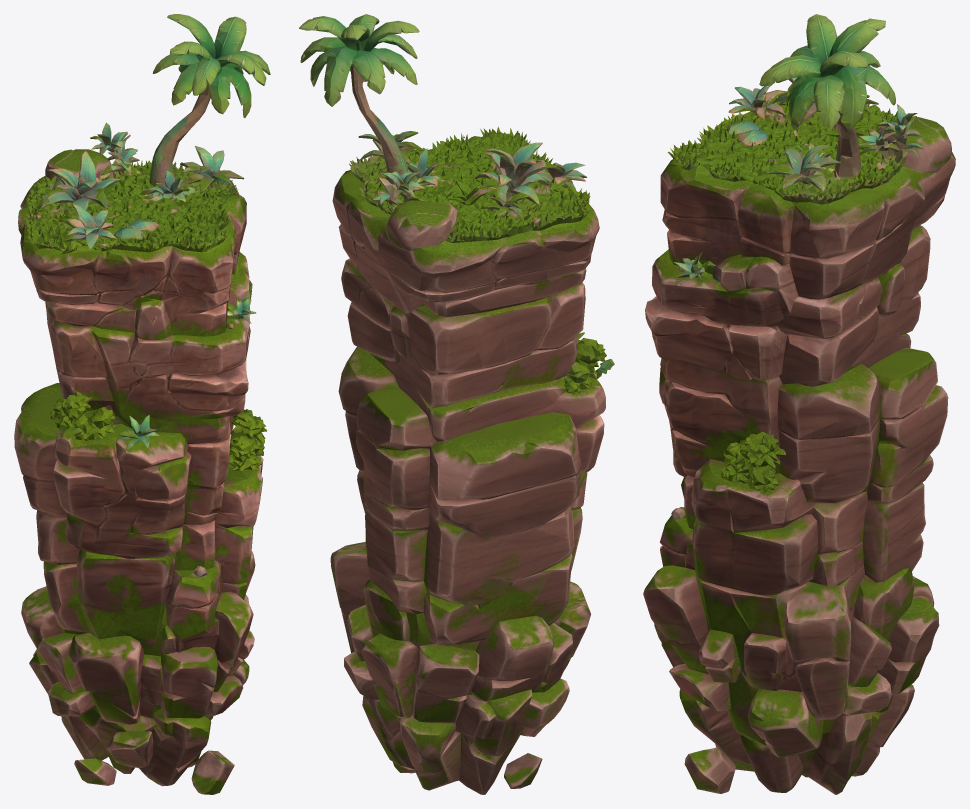
File: pilar.glb
The picture shows the model from 3 angles, left to right: view 1: azimuth 30°, elevation 25°; view 2: azimuth 150°, elevation 25°; view 3: azimuth 270°, elevation 25°; orthographic projection. The views are drawn at different scales.
Bounding box in the file's own units: 0.7283 × 1.9 × 0.6812.
Materials: 1 (1 with a texture image).
